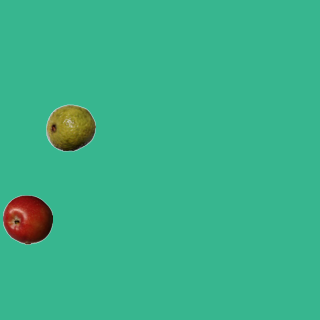Apple Braeburn: (2, 194, 52, 244)
Guava: (45, 102, 95, 152)
